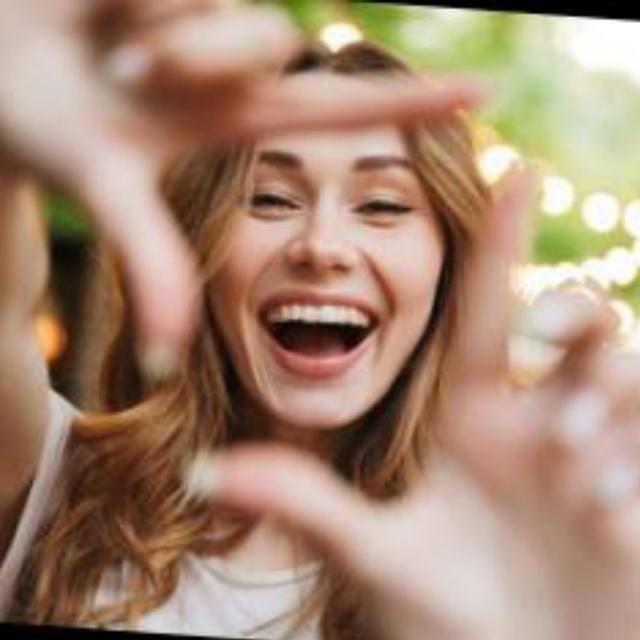Happy: (212, 100, 448, 441)
